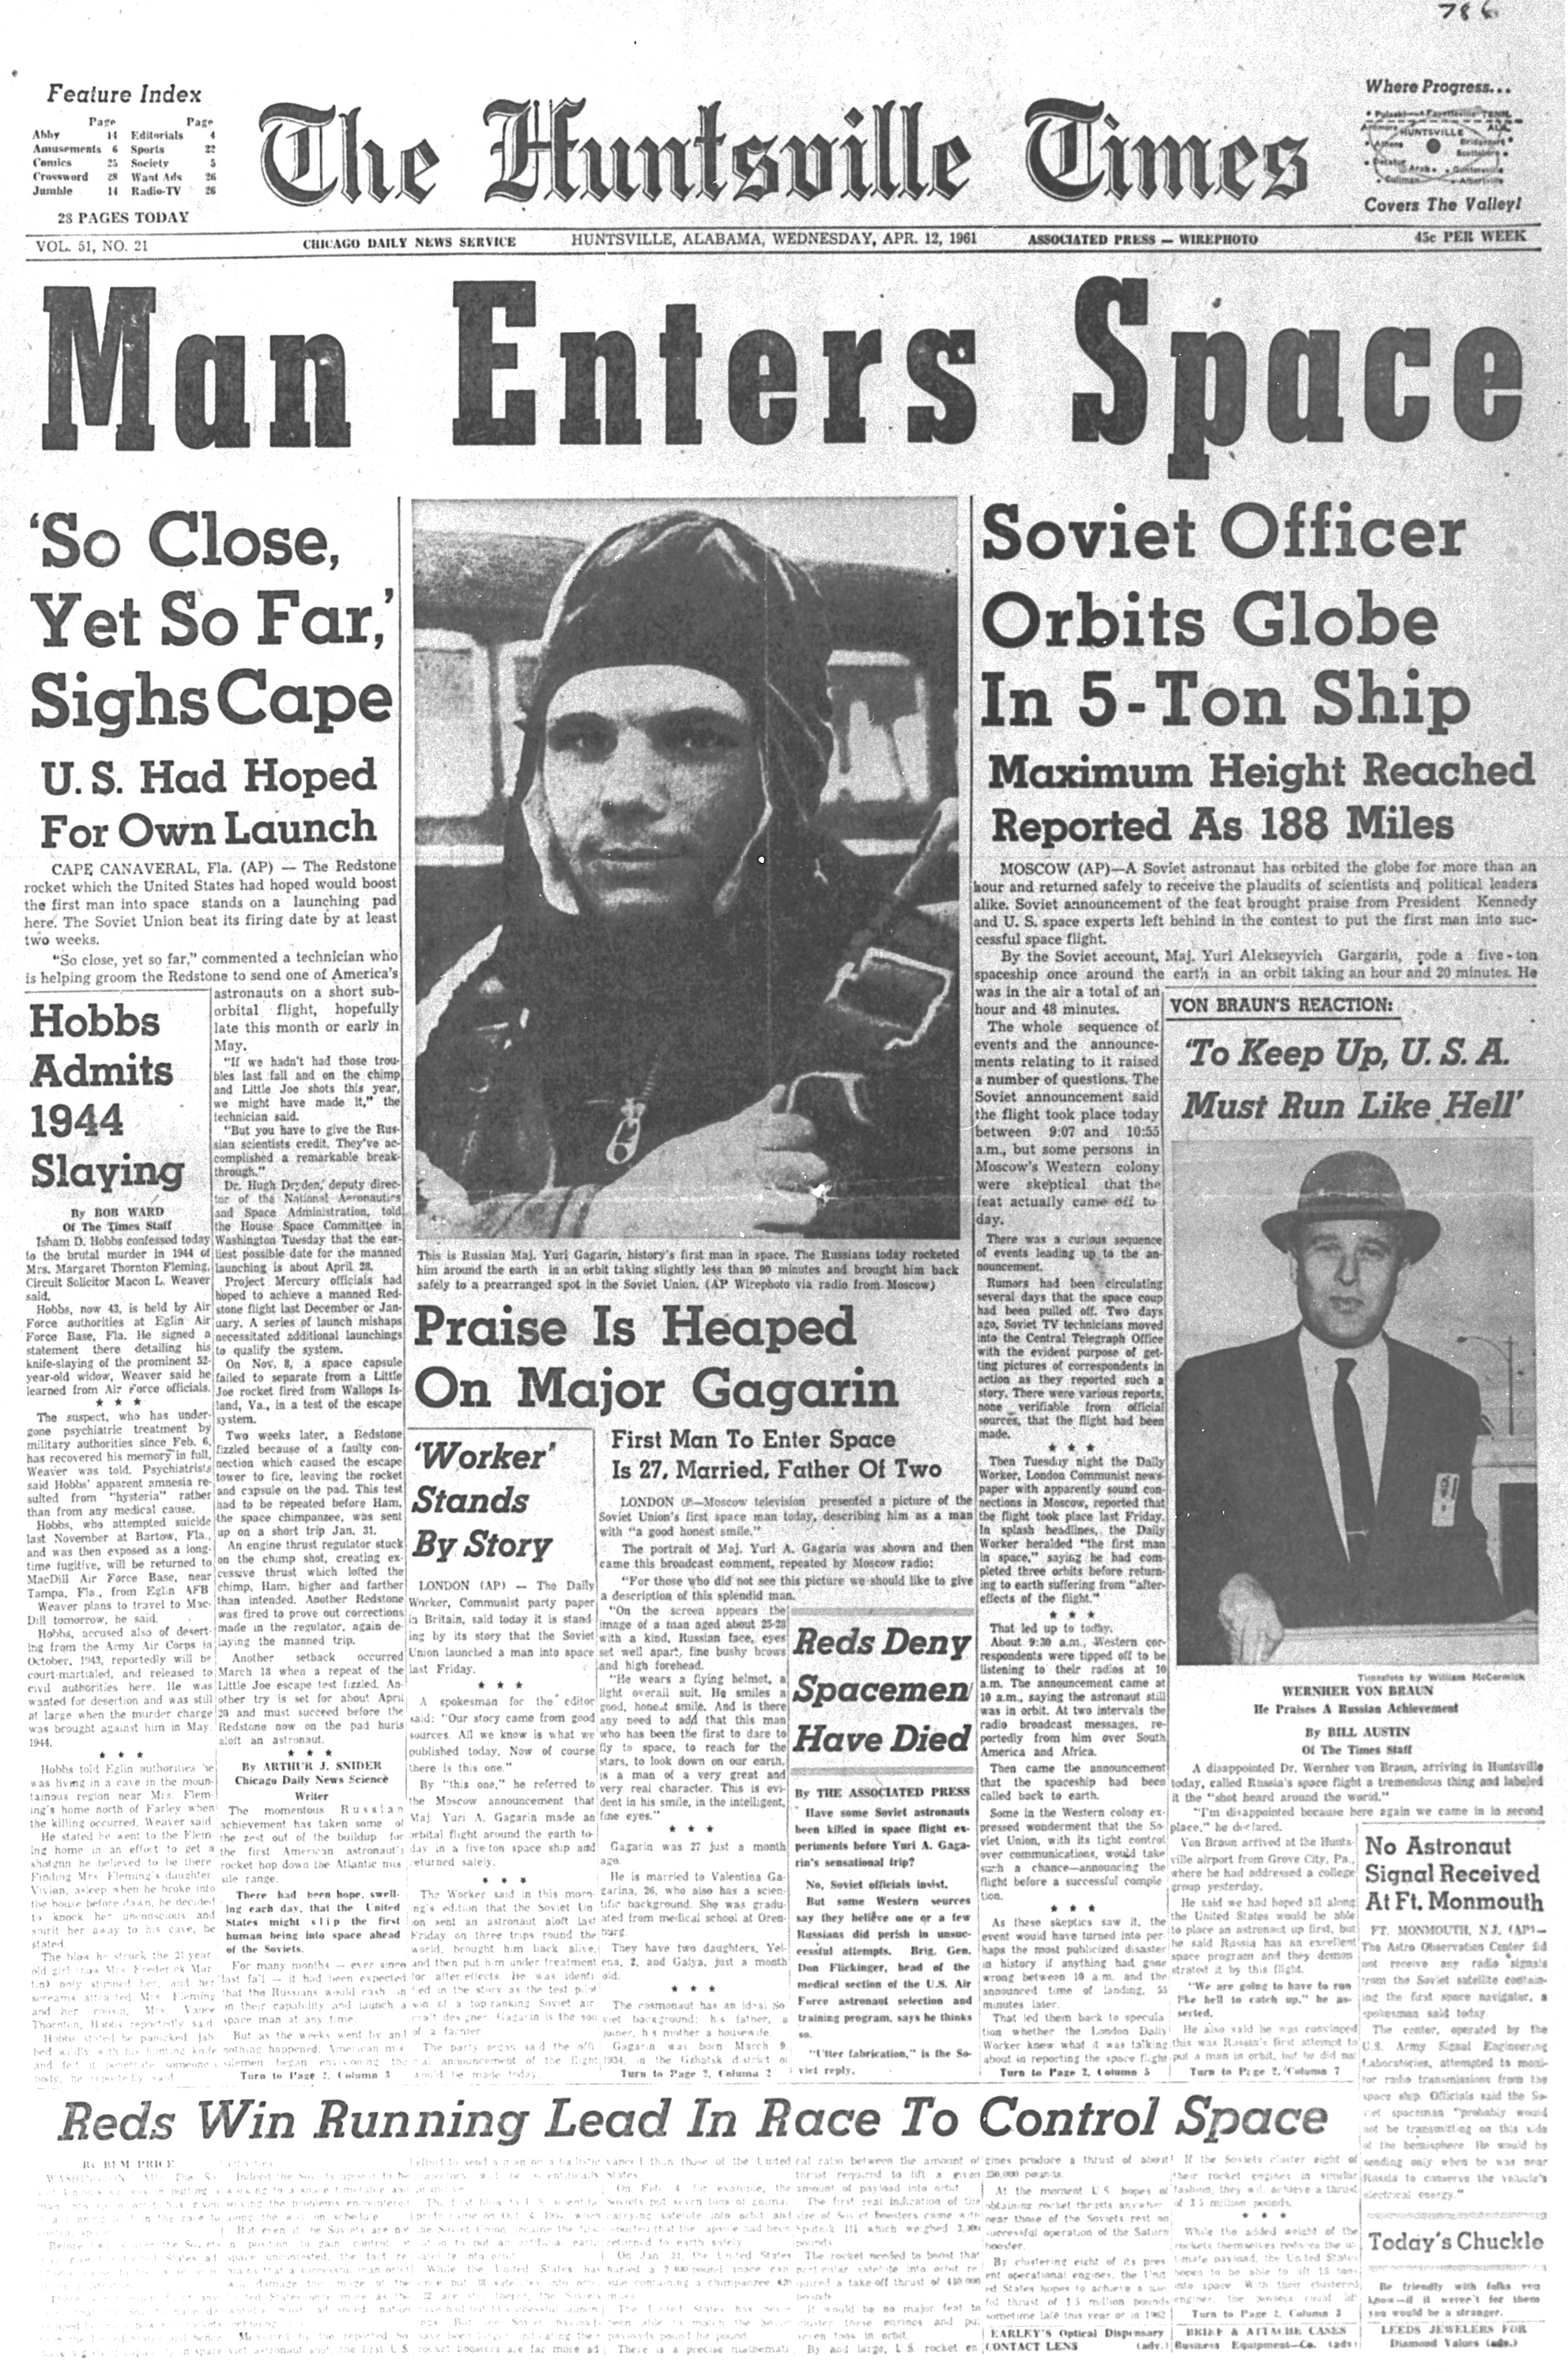news_paper: (7, 21, 1568, 2371)
